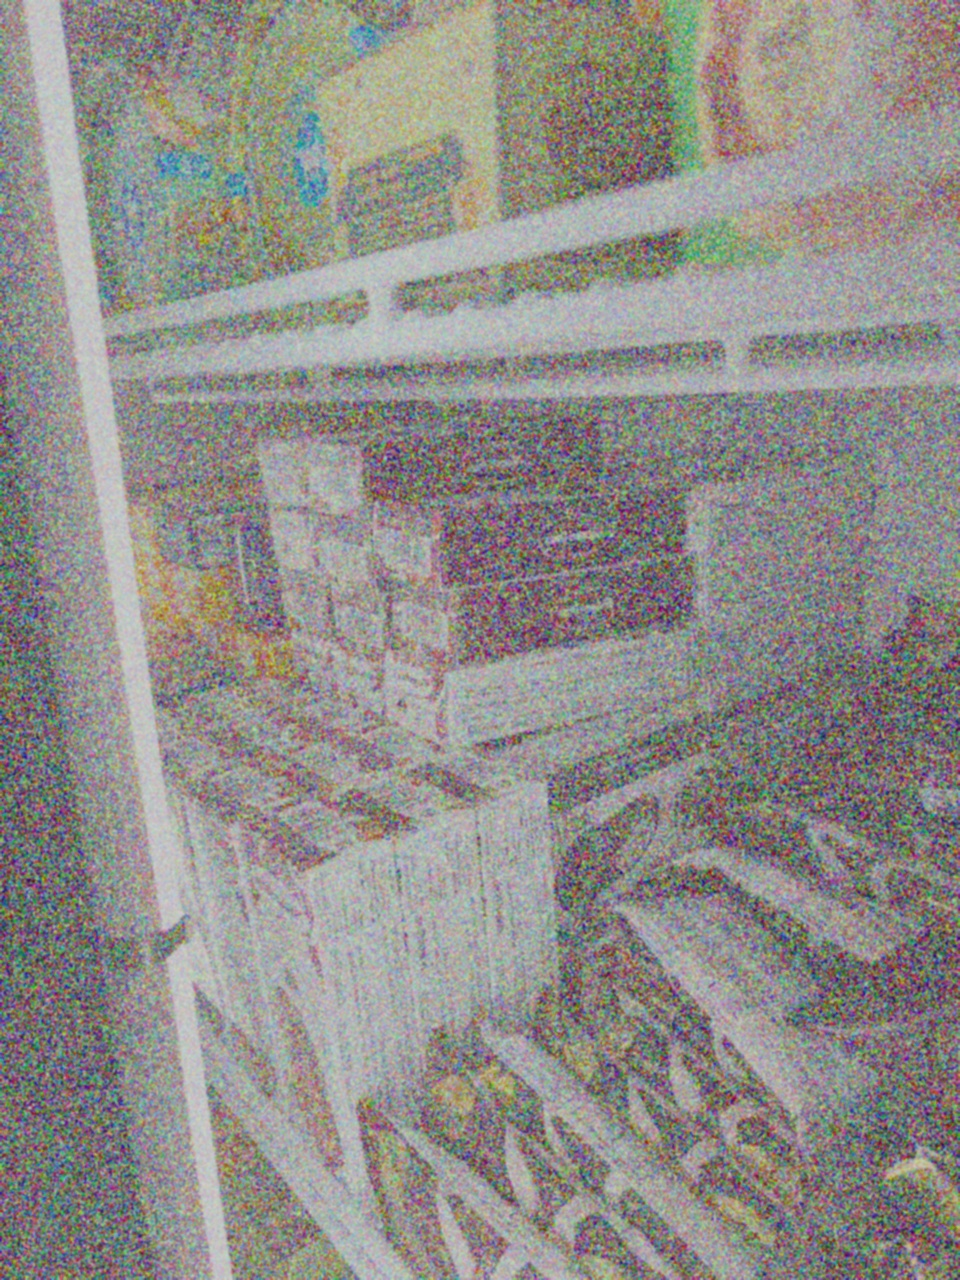Haagen-Dazs IceCream Bars: (245, 800, 416, 1196), (338, 767, 486, 1105), (545, 712, 773, 925), (385, 616, 716, 746), (417, 754, 566, 1031), (385, 550, 717, 673), (372, 475, 689, 591), (313, 409, 606, 521), (181, 766, 285, 1067), (479, 777, 528, 1043), (246, 436, 332, 509), (266, 570, 344, 639), (265, 504, 333, 573), (328, 643, 407, 696), (334, 586, 396, 649), (319, 517, 376, 581), (282, 635, 342, 677)
